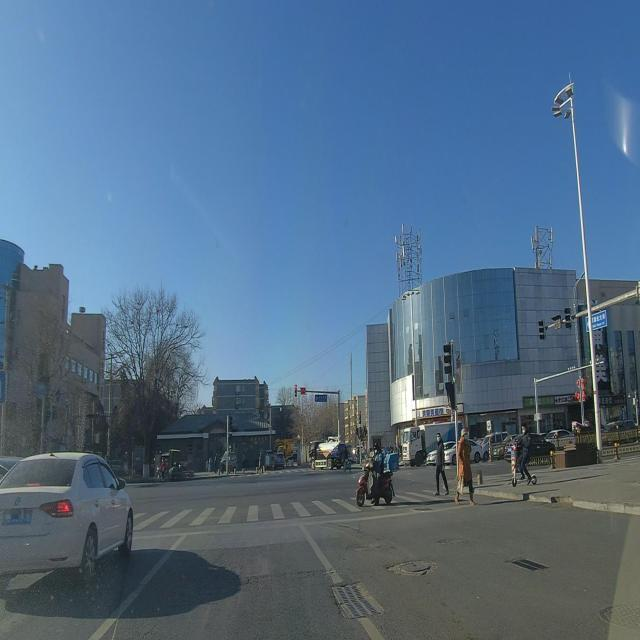Traffic Light -Off-: (442, 340, 454, 377), (564, 306, 572, 332), (538, 318, 546, 342)
Traffic Light -Red-: (294, 384, 298, 397)
